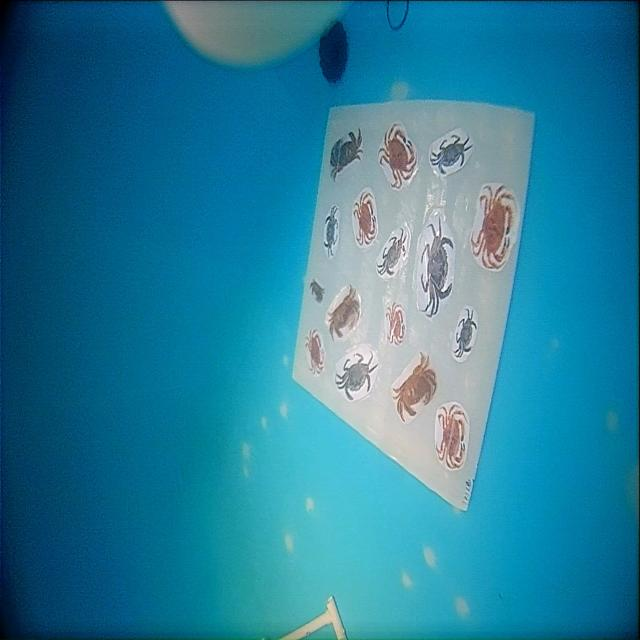GreenCrab: (420, 222, 453, 316), (336, 354, 377, 400), (430, 135, 473, 175), (377, 231, 404, 276), (454, 309, 477, 357)
